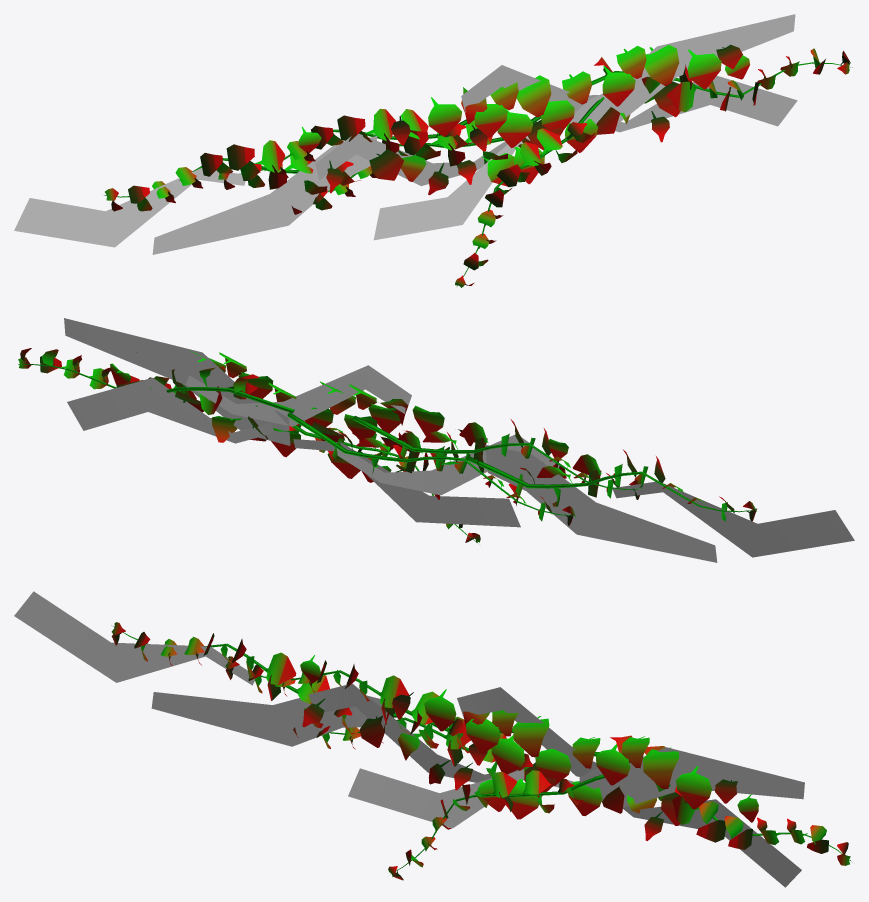
The model's file is lierre_var_8.fbx.
3 views of the same model, one above another, from view 1: azimuth 30°, elevation 25°; view 2: azimuth 150°, elevation 25°; view 3: azimuth 330°, elevation 25° (orthographic).
Parts seen in each view (by area): view 1: _9103_Var8_LOD1; view 2: _9103_Var8_LOD1; view 3: _9103_Var8_LOD1.
Part boxes in pixels (bbox=[...]): _9103_Var8_LOD1: bbox=[14, 14, 852, 287]; _9103_Var8_LOD1: bbox=[18, 318, 854, 562]; _9103_Var8_LOD1: bbox=[14, 591, 852, 887].
Size of the model in its own units: 132 by 27.53 by 14.05.
